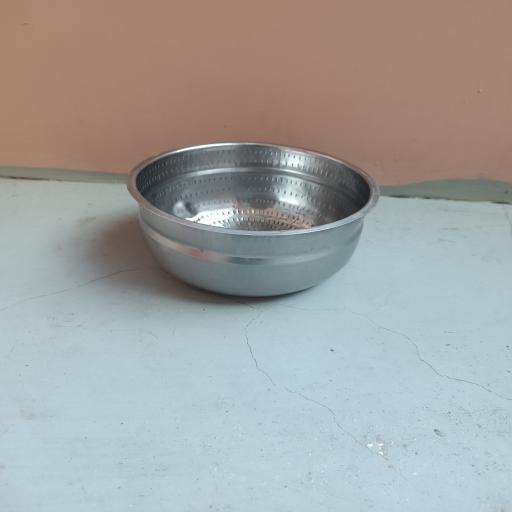vessel: (127, 142, 379, 296)
